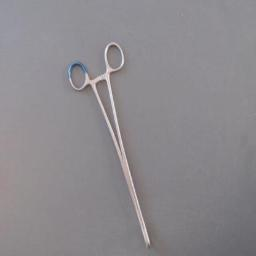Sponge Forceps: (64, 38, 158, 254)
